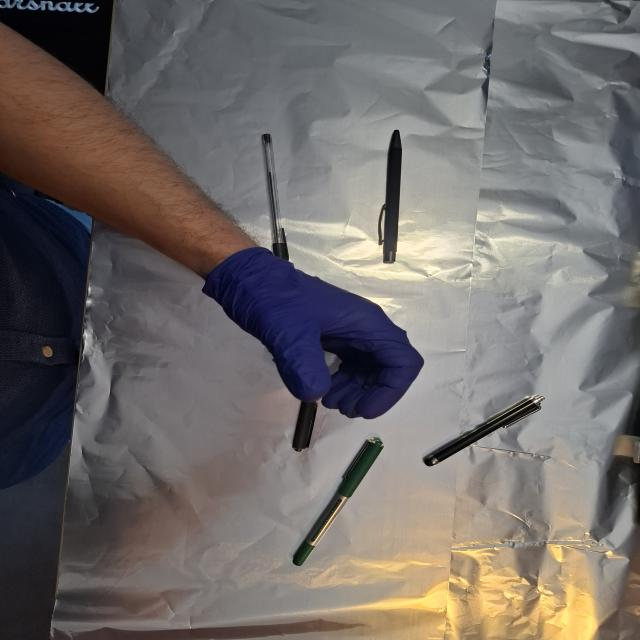glove_on: (202, 245, 428, 423)
